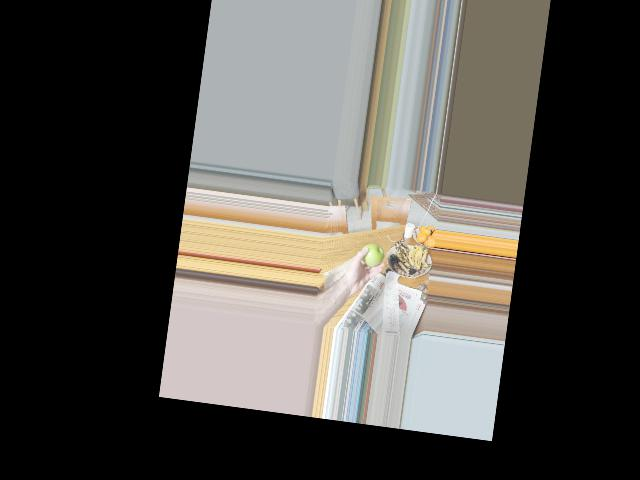apple: (358, 241, 384, 269)
